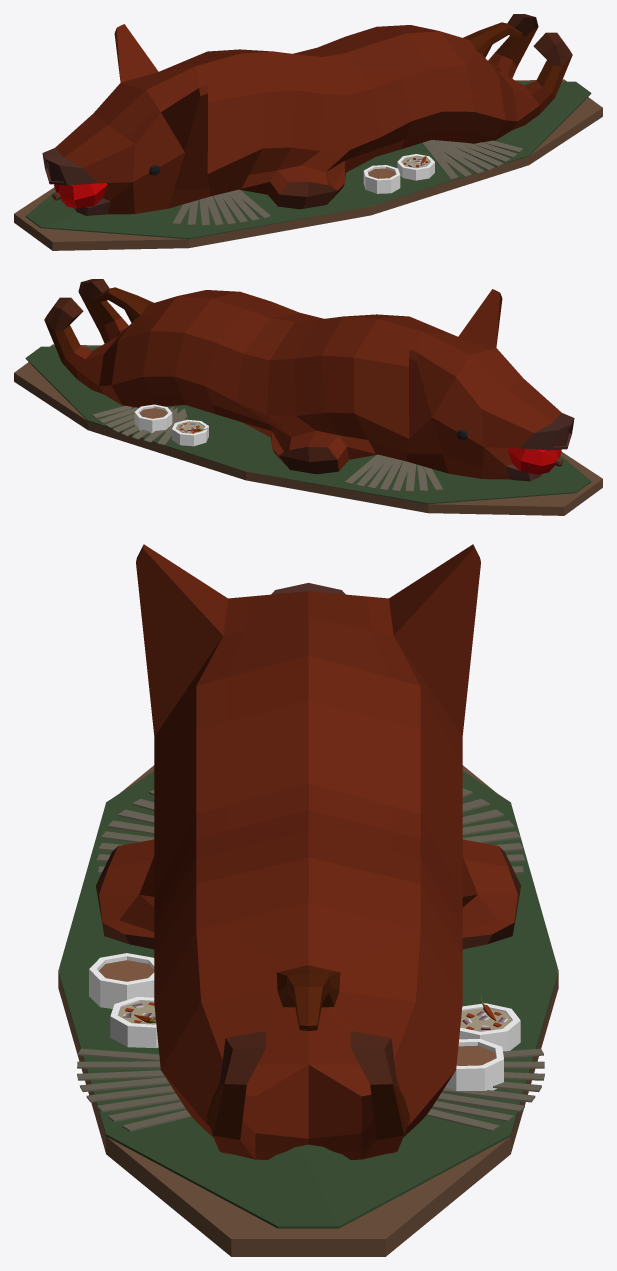
The model's file is FINAL_Lechon Bacolod.fbx.
The picture shows the model from 3 angles, top to bottom: view 1: azimuth 30°, elevation 25°; view 2: azimuth 150°, elevation 25°; view 3: azimuth 270°, elevation 25°; orthographic projection. The views are drawn at different scales.
Parts seen in each view (by area): view 1: Lechon Bacolod; view 2: Lechon Bacolod; view 3: Lechon Bacolod.
Part boxes in pixels (<box>): Lechon Bacolod: <box>14,14,602,250</box>; Lechon Bacolod: <box>14,279,602,515</box>; Lechon Bacolod: <box>58,544,558,1256</box>.
Size of the model in its own units: 306 by 79.79 by 120.
